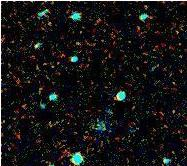star: (62, 29, 92, 59)
